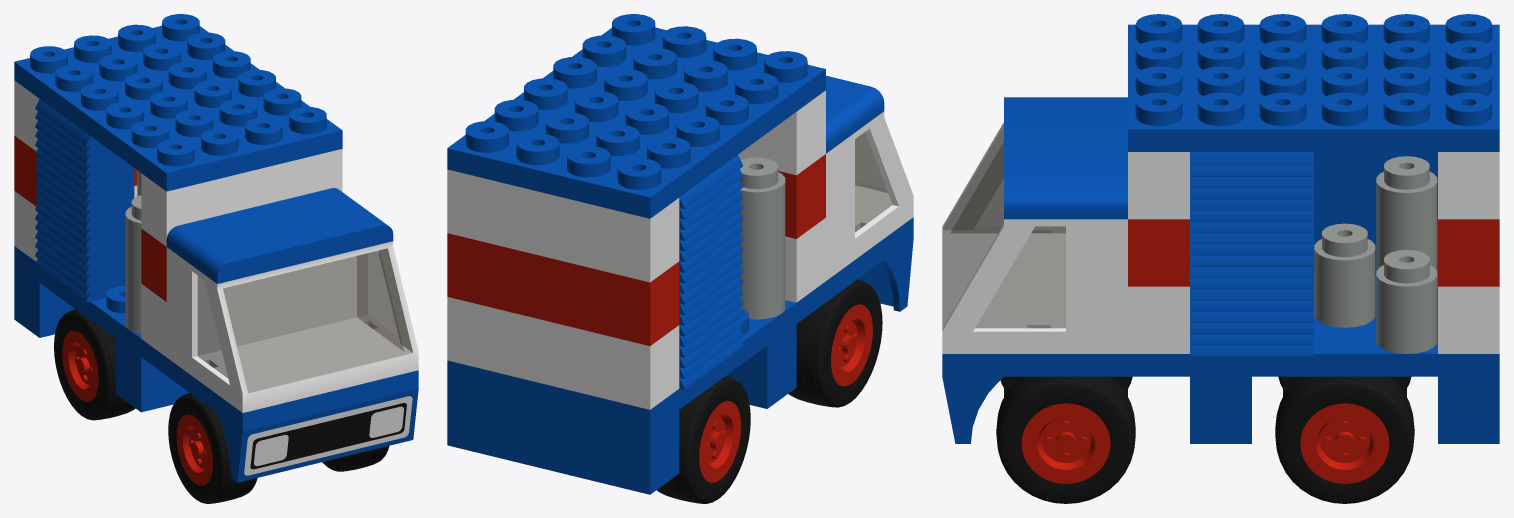
File: CamionFurgon.glb
The picture shows the model from 3 angles, left to right: view 1: azimuth 30°, elevation 25°; view 2: azimuth 150°, elevation 25°; view 3: azimuth 270°, elevation 25°; orthographic projection. The views are drawn at different scales.
Visible parts, largest first — view 1: Furgon, Carlinga, ParachoquesDelantero, Base, Rueda4, Rueda3, Bloque, ParachoquesTrasero, Llanta4, Llanta3, Rueda1; view 2: Furgon, ParachoquesTrasero, Carlinga, Base, Rueda3, Rueda4, Bloque, Llanta3, Llanta4, ParachoquesDelantero; view 3: Furgon, Carlinga, Base, Rueda1, Rueda2, Llanta1, Llanta2, ParachoquesTrasero, Bloque, ParachoquesDelantero.
Boxes of the visible parts, bbox=[...] form: Furgon: bbox=[14, 14, 342, 356]; Carlinga: bbox=[166, 188, 418, 431]; ParachoquesDelantero: bbox=[217, 388, 418, 482]; Base: bbox=[14, 246, 217, 412]; Rueda4: bbox=[54, 309, 135, 420]; Rueda3: bbox=[168, 393, 257, 503]; Bloque: bbox=[116, 339, 189, 412]; ParachoquesTrasero: bbox=[14, 264, 75, 337]; Llanta4: bbox=[62, 331, 98, 401]; Llanta3: bbox=[176, 414, 212, 485]; Rueda1: bbox=[322, 445, 389, 471]; Furgon: bbox=[447, 14, 825, 409]; ParachoquesTrasero: bbox=[447, 381, 679, 494]; Carlinga: bbox=[826, 75, 913, 280]; Base: bbox=[447, 239, 884, 430]; Rueda3: bbox=[788, 279, 882, 407]; Rueda4: bbox=[657, 376, 750, 503]; Bloque: bbox=[726, 324, 796, 408]; Llanta3: bbox=[831, 304, 872, 386]; Llanta4: bbox=[699, 400, 741, 482]; ParachoquesDelantero: bbox=[858, 238, 913, 311]; Furgon: bbox=[1128, 14, 1499, 356]; Carlinga: bbox=[942, 97, 1127, 376]; Base: bbox=[1004, 275, 1499, 376]; Rueda1: bbox=[996, 376, 1135, 503]; Rueda2: bbox=[1275, 376, 1414, 503]; Llanta1: bbox=[1021, 403, 1110, 483]; Llanta2: bbox=[1300, 403, 1389, 483]; ParachoquesTrasero: bbox=[1438, 376, 1499, 443]; Bloque: bbox=[1190, 376, 1251, 443]; ParachoquesDelantero: bbox=[942, 376, 1003, 443].
Bounding box in the file's own units: 1.68 × 2.8 × 3.6.
